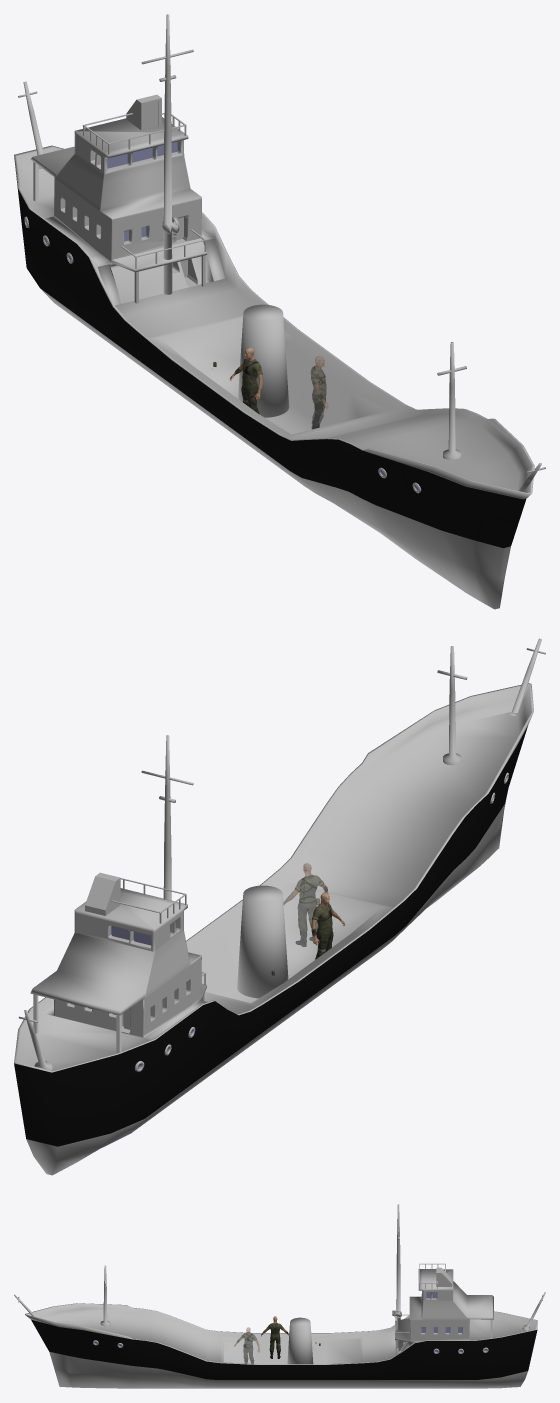
The model's file is D4_Ship6.glb.
The picture shows the model from 3 angles, top to bottom: view 1: azimuth 30°, elevation 25°; view 2: azimuth 150°, elevation 25°; view 3: azimuth 270°, elevation 25°; orthographic projection. The views are drawn at different scales.
Visible parts, largest first — view 1: Object_6, Object_2, Cylinder, Clotch_up_Material #108_0.001, Clotch_up, Object_4; view 2: Object_6, Object_2, Cylinder, Clotch_up, Clotch_up_Material #108_0.001; view 3: Object_6, Object_2, Cylinder, Clotch_up_Material #108_0.001, Clotch_up.
Part boxes in pixels (bbox=[...]): Object_6: bbox=[14, 14, 545, 609]; Object_2: bbox=[15, 164, 526, 548]; Cylinder: bbox=[238, 304, 289, 417]; Clotch_up_Material #108_0.001: bbox=[230, 347, 263, 413]; Clotch_up: bbox=[310, 356, 328, 429]; Object_4: bbox=[26, 141, 418, 490]; Object_6: bbox=[14, 638, 545, 1175]; Object_2: bbox=[14, 726, 527, 1146]; Cylinder: bbox=[237, 885, 288, 998]; Clotch_up: bbox=[283, 863, 328, 946]; Clotch_up_Material #108_0.001: bbox=[311, 893, 345, 959]; Object_6: bbox=[14, 1204, 545, 1388]; Object_2: bbox=[31, 1319, 537, 1379]; Cylinder: bbox=[287, 1317, 313, 1364]; Clotch_up_Material #108_0.001: bbox=[261, 1316, 289, 1358]; Clotch_up: bbox=[234, 1327, 259, 1363].
Size of the model in its own units: 6.14 by 16.34 by 43.39.
17 materials, 14 textured.
